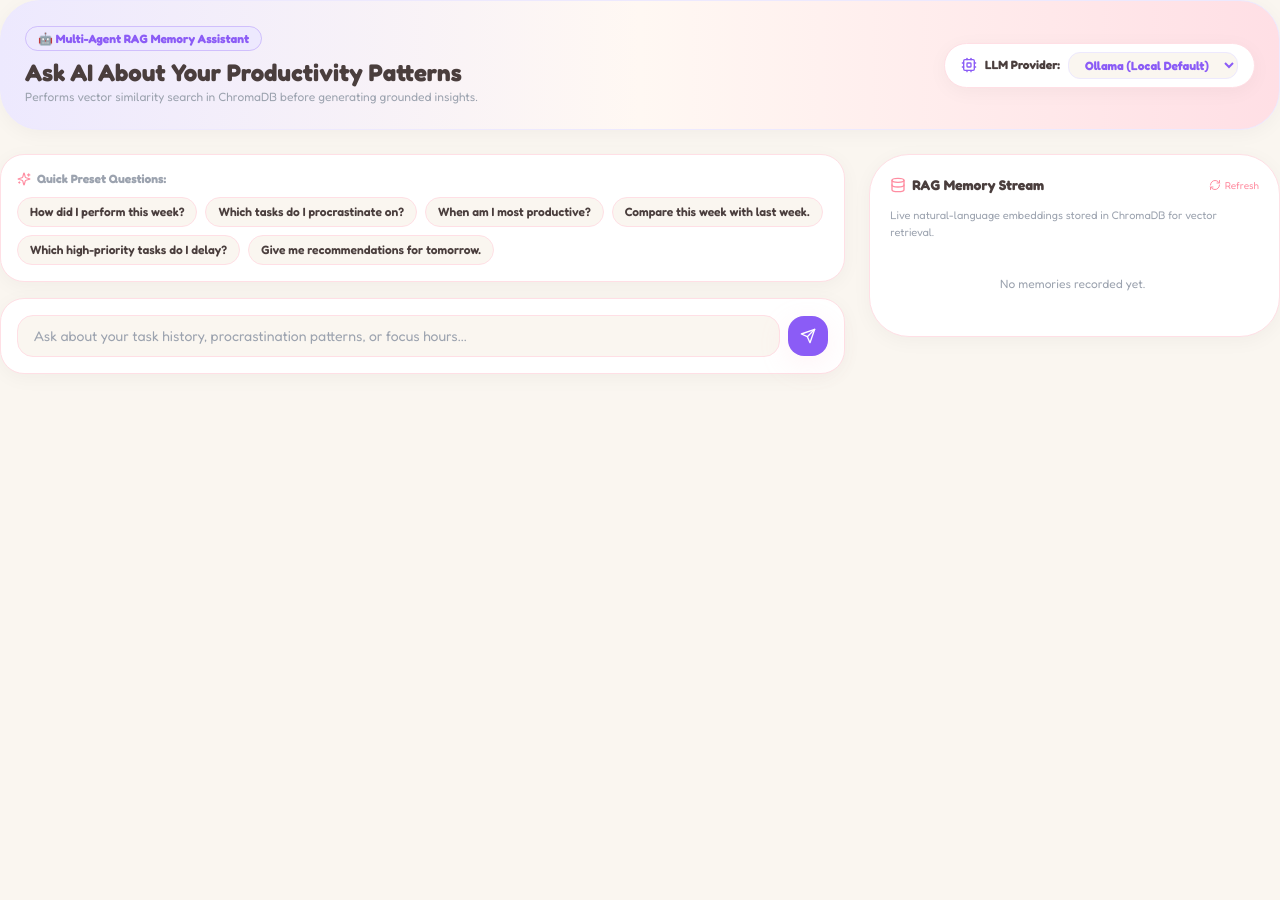
Scenario: AIAssistant › displays grounded answer with sources after asking
Replace the text in the field with placeholder "Ask about your task history" with "When am I most productive?" at (399,336), box [17, 315, 780, 357]
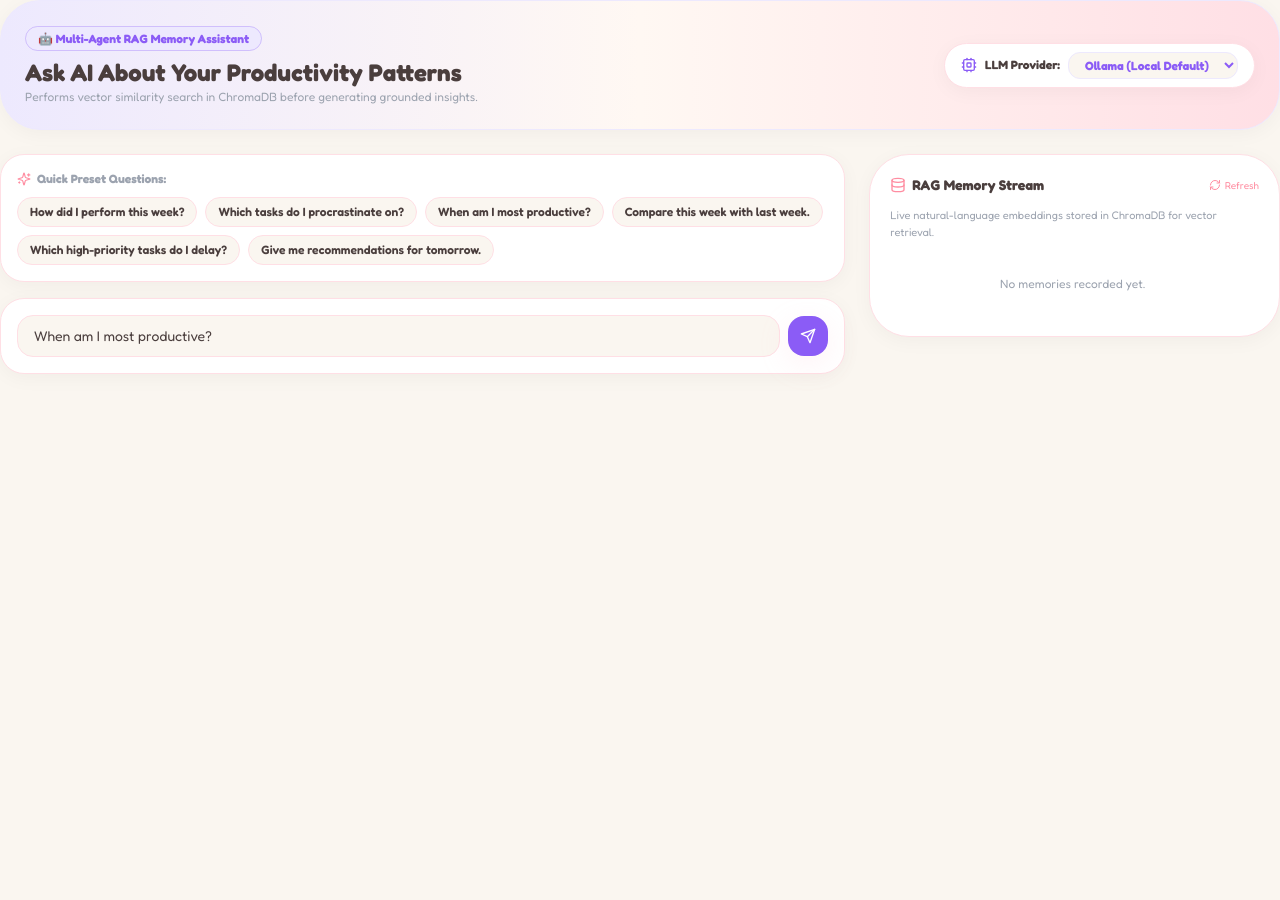
Press Enter in the field with placeholder "Ask about your task history", box [17, 315, 780, 357]
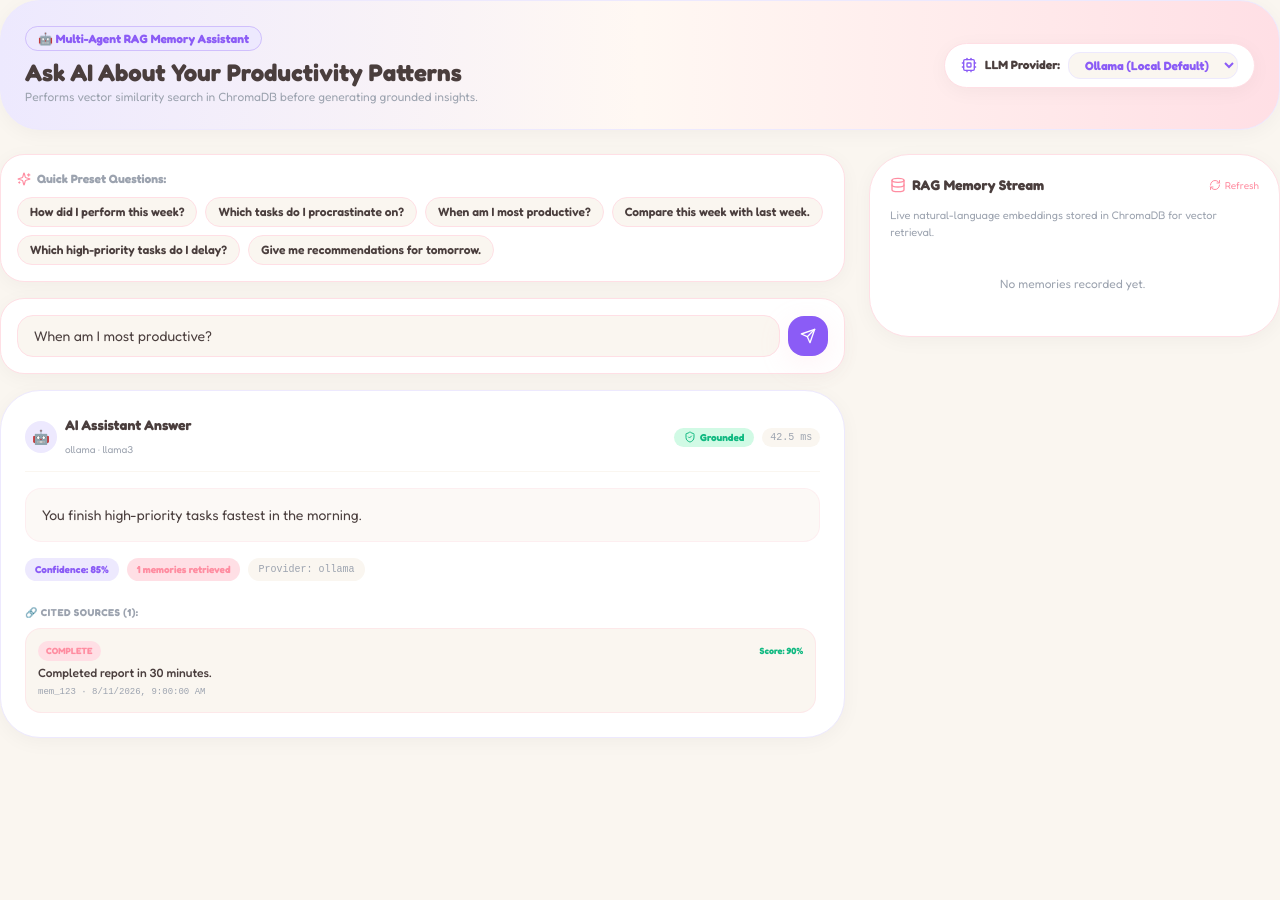
Expected: the text "You finish high-priority tasks fastest in the morning." is shown, [25, 488, 820, 542]
Expected: the text "Grounded" is shown, [674, 428, 754, 446]
Expected: the text "Confidence: 85%" is shown, [25, 558, 119, 581]
